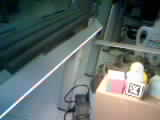duck: (119, 51, 152, 90)
